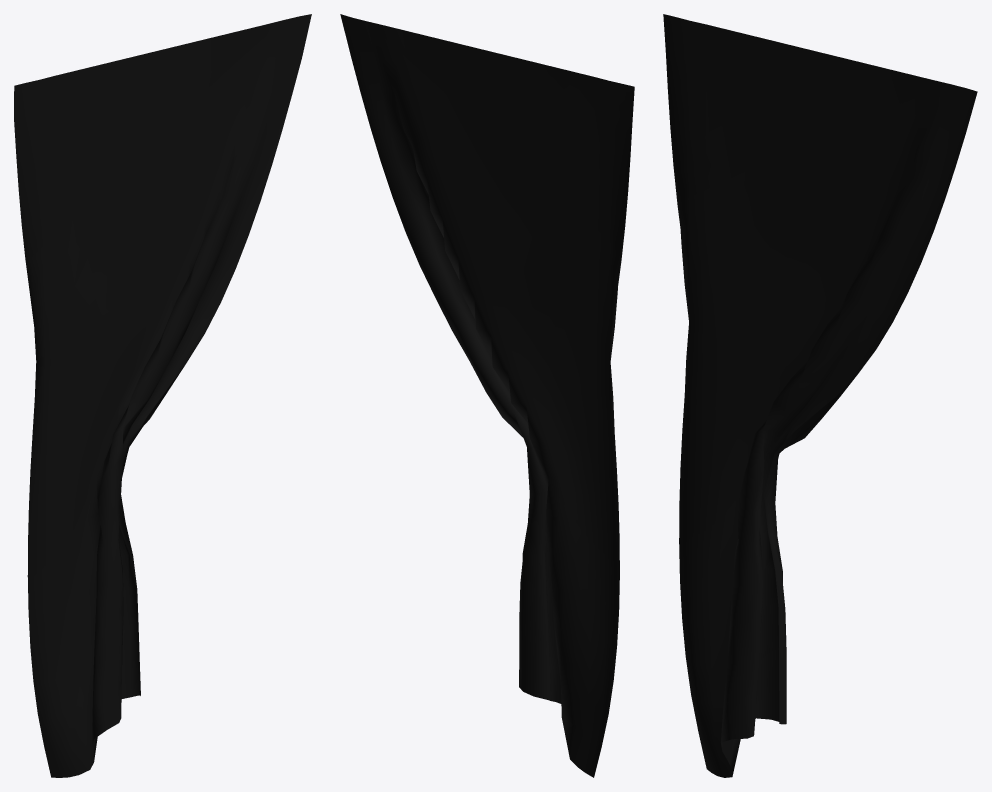
The picture shows the model from 3 angles, left to right: view 1: azimuth 30°, elevation 25°; view 2: azimuth 150°, elevation 25°; view 3: azimuth 330°, elevation 25°; orthographic projection. The views are drawn at different scales.
Parts seen in each view (by area): view 1: CurtainLeftBlack; view 2: CurtainLeftBlack; view 3: CurtainLeftBlack.
Part boxes in pixels (x1=…): CurtainLeftBlack: x1=14, y1=14, x2=311, y2=777; CurtainLeftBlack: x1=340, y1=14, x2=634, y2=777; CurtainLeftBlack: x1=663, y1=14, x2=977, y2=777.
Size of the model in its own units: 0.874 by 1.98 by 0.0844.
1 material, 1 textured.
